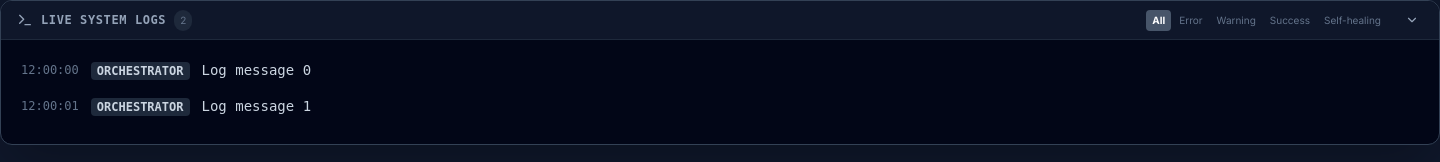
Test: LogTerminal › should collapse/expand log body
expect the text "Log message 0" is shown: met, box [202, 62, 311, 78]
// Find collapse button (ChevronDown) and click
Click the button titled "Collapse logs". click: (1412,20)
box: [1401, 9, 1423, 31]
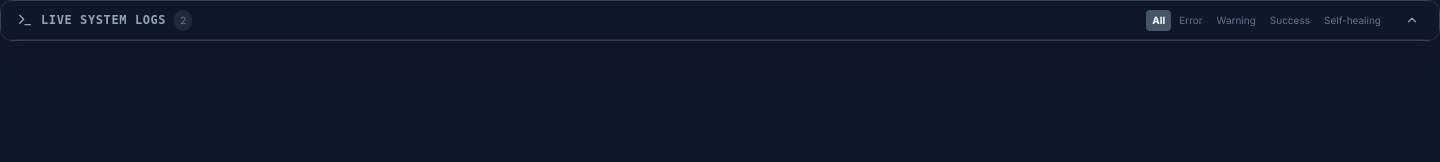
expect the text "Log message 0" is gone: met
// Expand again
Click the button titled "Expand logs". click: (1412,20)
box: [1401, 9, 1423, 31]
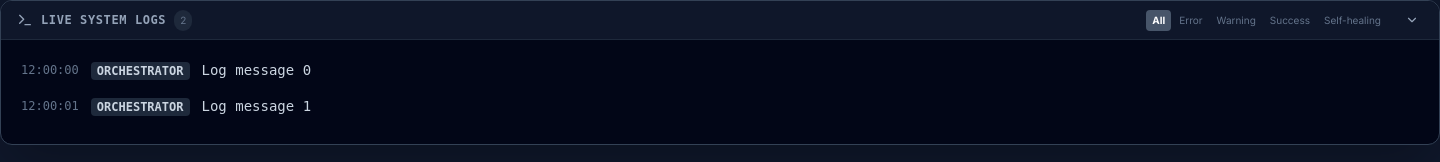
expect the text "Log message 0" is shown: met, box [202, 62, 311, 78]
